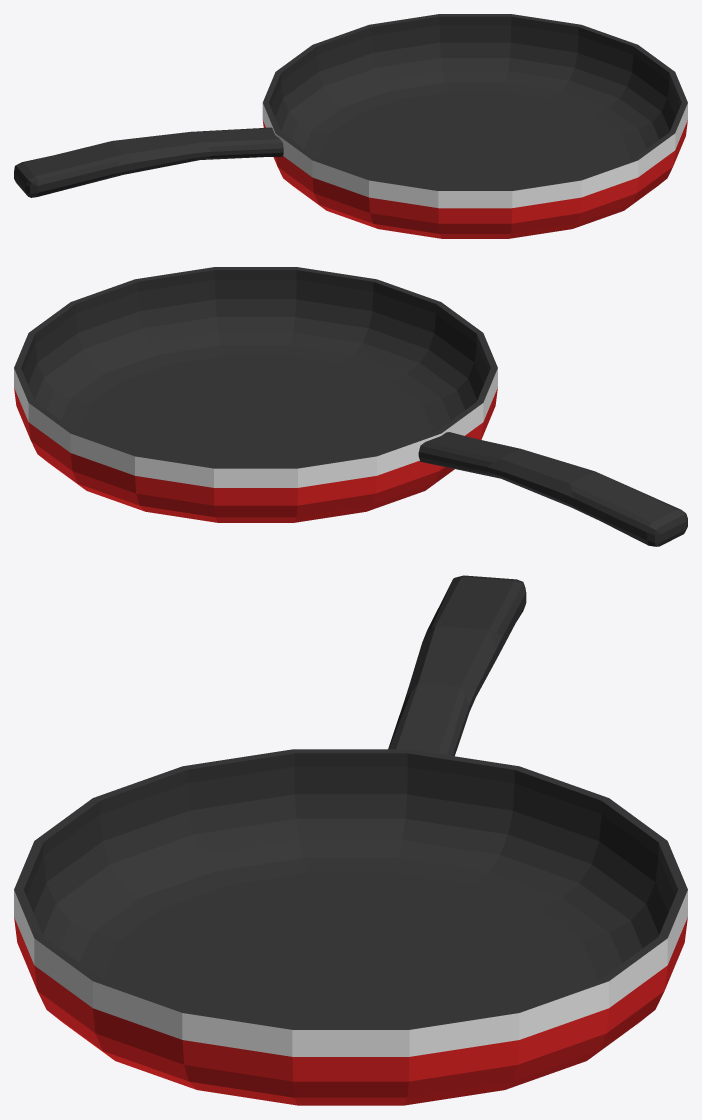
3 renders of one model, top to bottom at view 1: azimuth 30°, elevation 25°; view 2: azimuth 150°, elevation 25°; view 3: azimuth 270°, elevation 25°, orthographic. The views are drawn at different scales.
Parts seen in each view (by area): view 1: Cylinder001, Box001; view 2: Cylinder001, Box001; view 3: Cylinder001, Box001.
Part boxes in pixels (<box>): Cylinder001: <box>262,14,687,238</box>; Box001: <box>14,127,283,197</box>; Cylinder001: <box>14,267,497,522</box>; Box001: <box>418,432,687,546</box>; Cylinder001: <box>14,749,687,1105</box>; Box001: <box>388,575,526,756</box>.
Bounding box in the file's own units: 926511 × 104912 × 573298.
